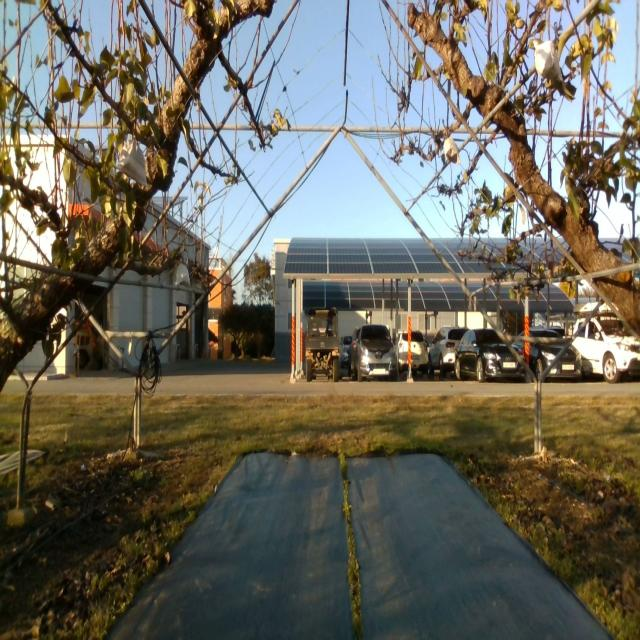pearbags: (118, 138, 146, 186), (534, 40, 563, 82), (175, 258, 191, 289), (444, 138, 461, 164)
